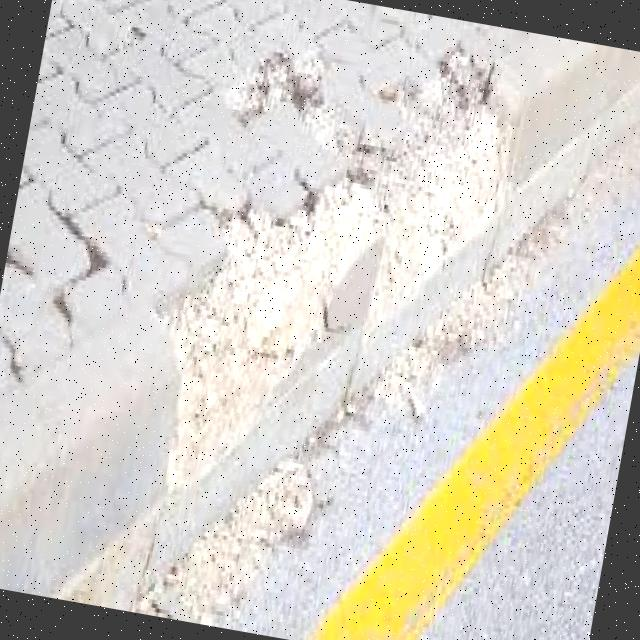curb: (1, 219, 319, 634), (250, 51, 529, 510), (480, 30, 640, 239)
